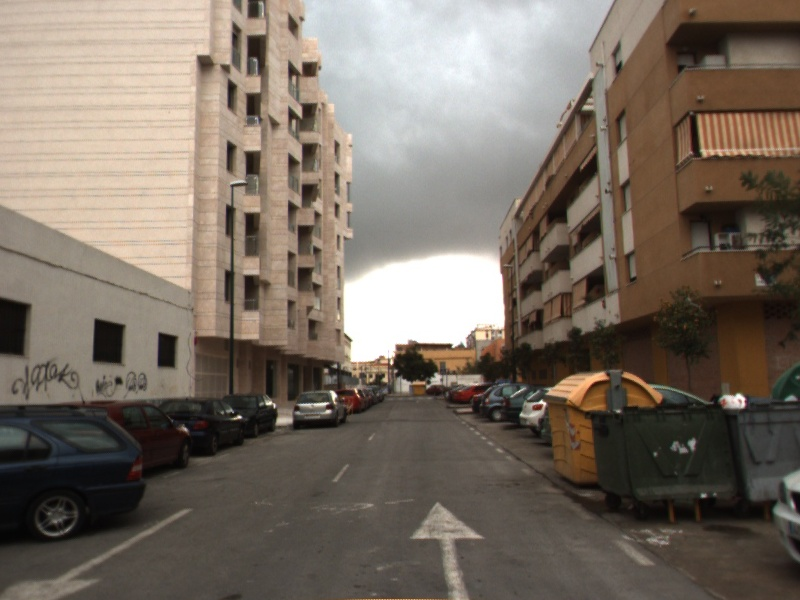STRAIGHT: (408, 499, 488, 600)
